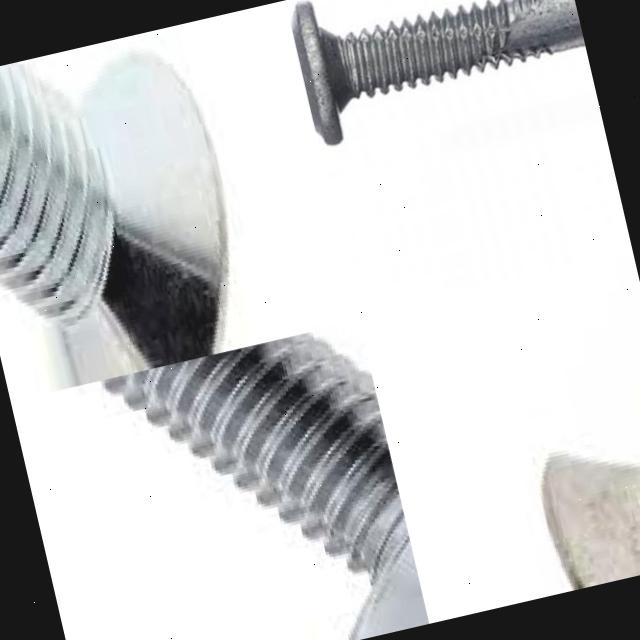Screw: (96, 330, 429, 640), (0, 45, 227, 388), (292, 0, 585, 145), (539, 450, 640, 590)
